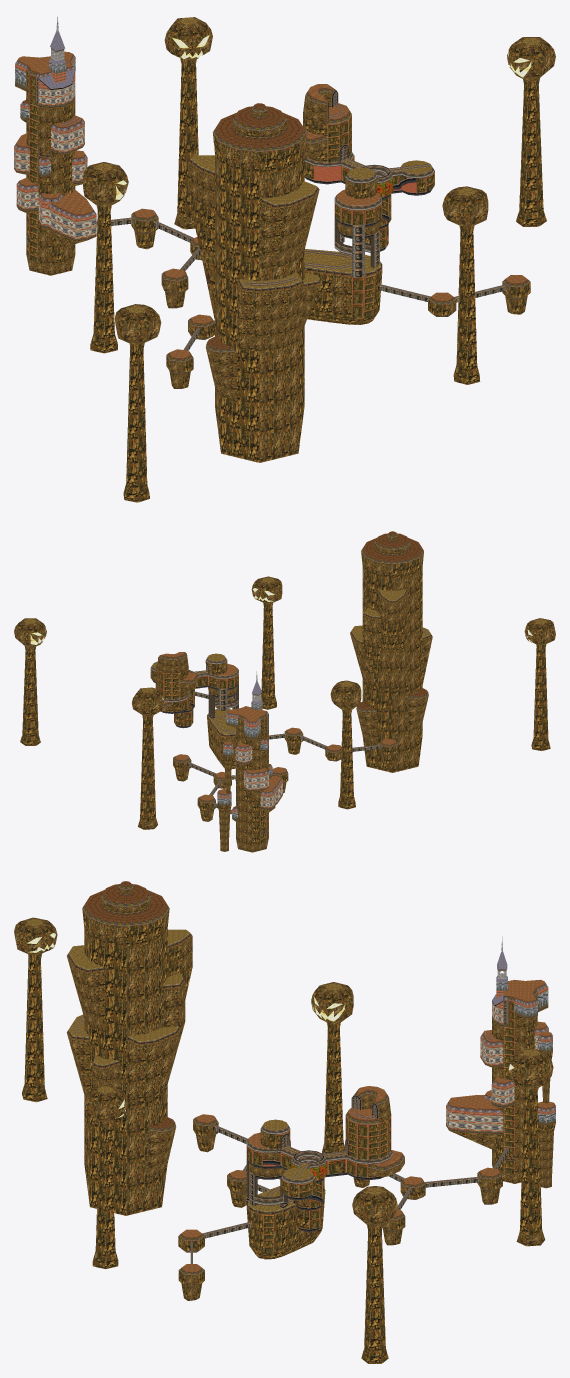
The model's file is PumpkinHill.obj.
3 views of the same model, one above another, from view 1: azimuth 30°, elevation 25°; view 2: azimuth 150°, elevation 25°; view 3: azimuth 270°, elevation 25° (orthographic). The views are drawn at different scales.
Bounding box in the file's own units: 2899 × 1520 × 2370.
Materials: 27 (27 with a texture image).
